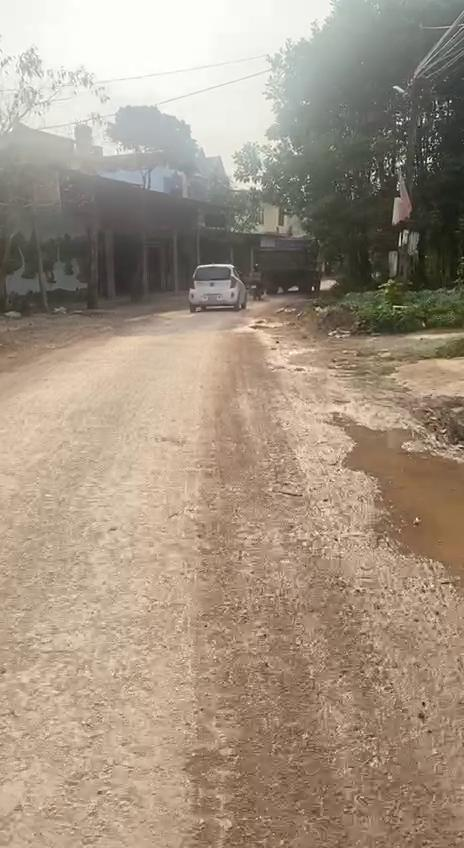pothole: (321, 406, 464, 588)
